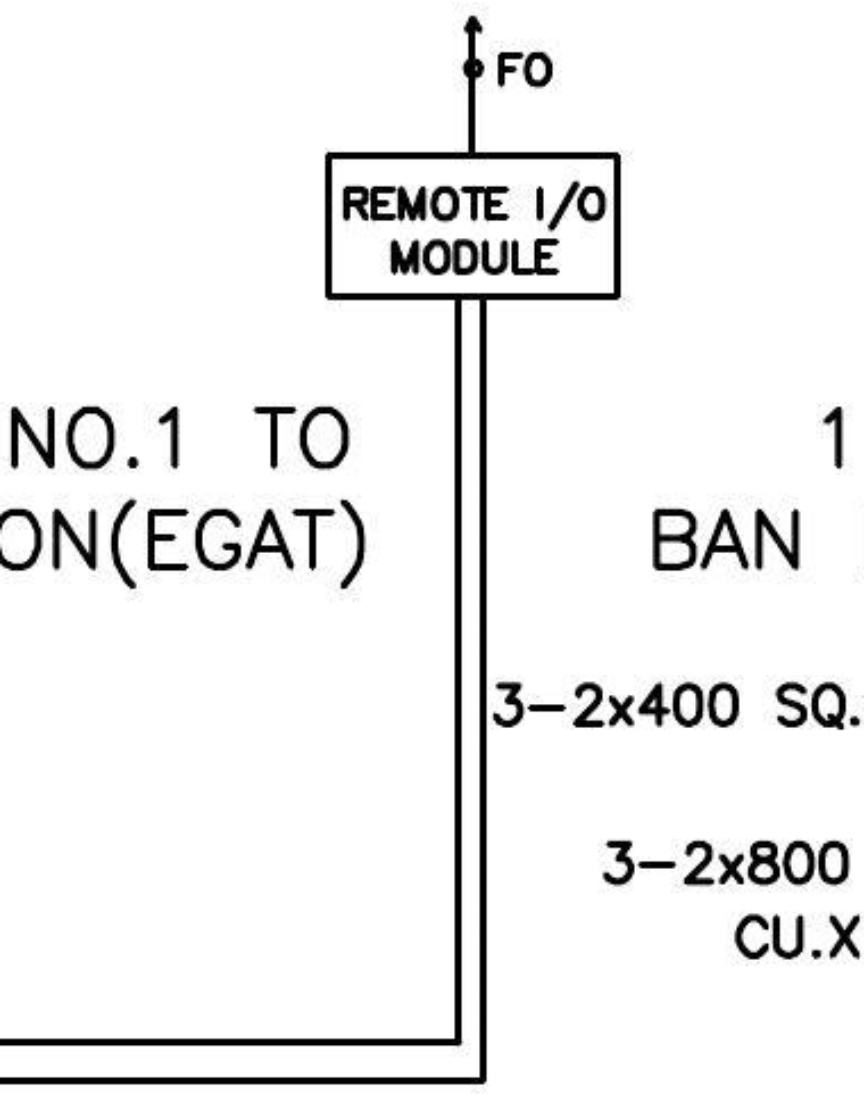remote_io_module: (323, 152, 621, 301)
